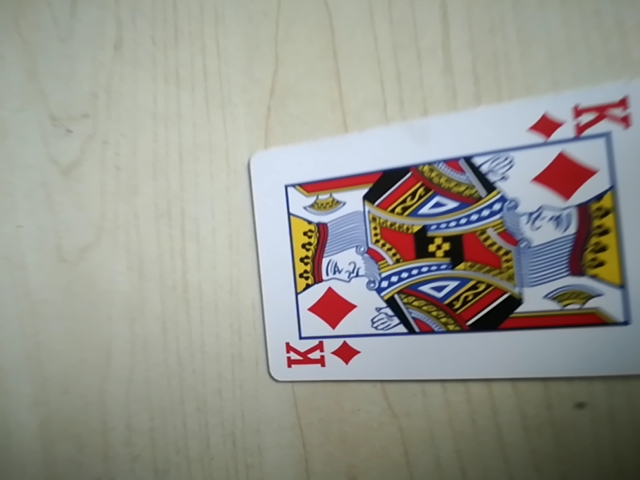fk k: (528, 94, 636, 143), (279, 334, 362, 379)
